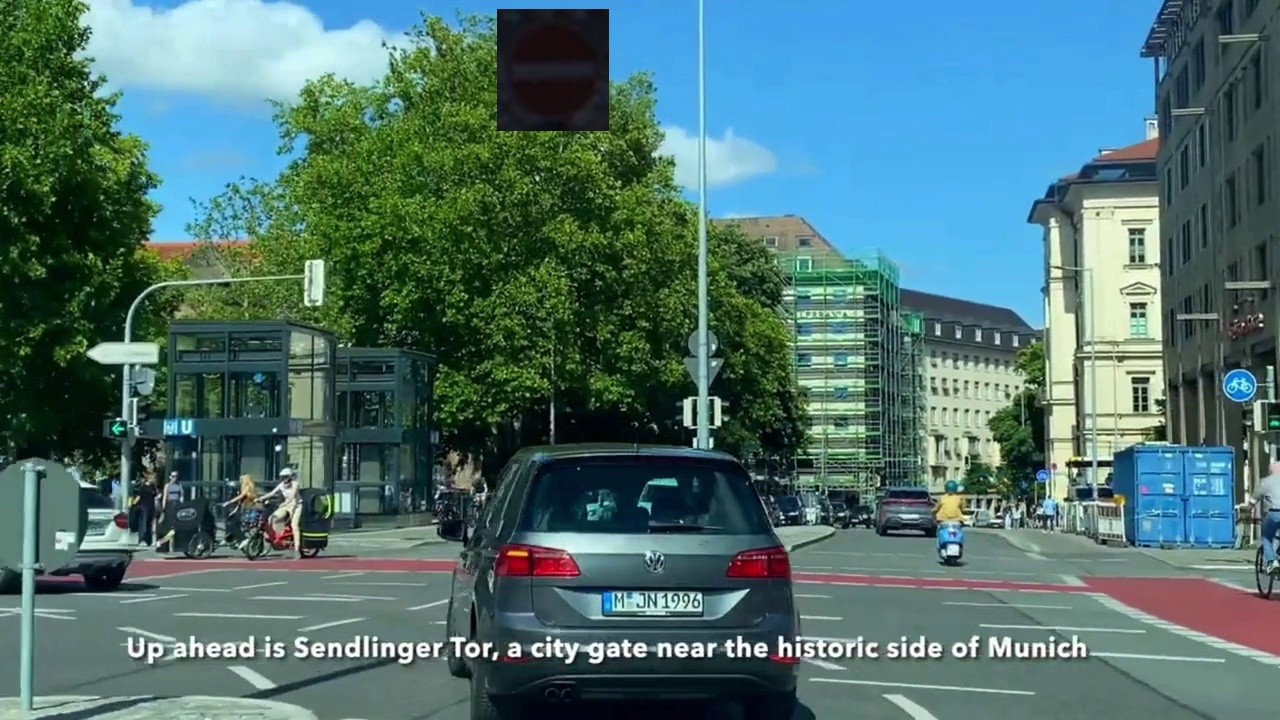No entry: (497, 9, 609, 131)
